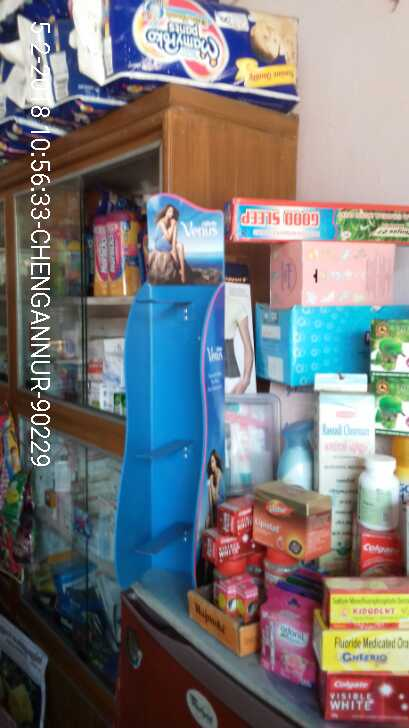reject: (177, 279, 270, 357)
